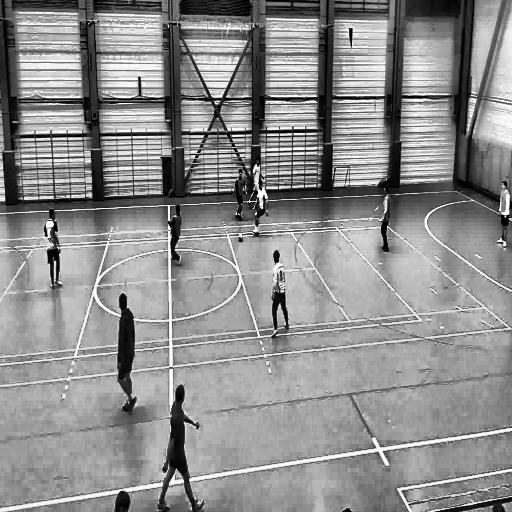ball: (236, 231, 244, 246)
player: (157, 382, 205, 512), (114, 294, 136, 421), (44, 206, 62, 292), (271, 250, 288, 339), (495, 179, 511, 254), (166, 203, 184, 268), (250, 180, 268, 240), (378, 184, 393, 251), (247, 156, 266, 208), (231, 168, 248, 222)
